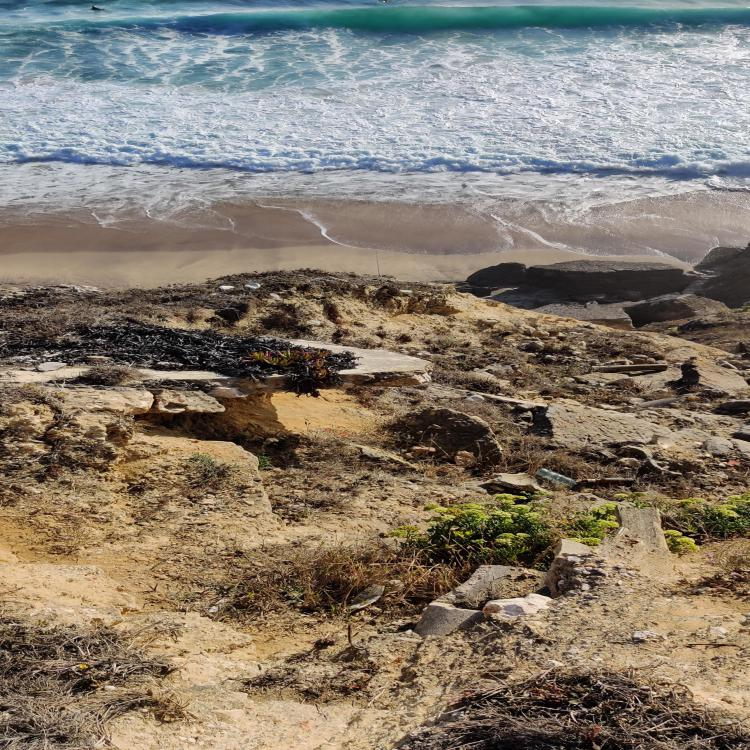Clear plastic bottle: (538, 468, 578, 487)
Drink can: (243, 283, 261, 290), (216, 286, 235, 290)
Glass bottle: (582, 477, 635, 485)
Unlabeled litter: (347, 584, 385, 609)
